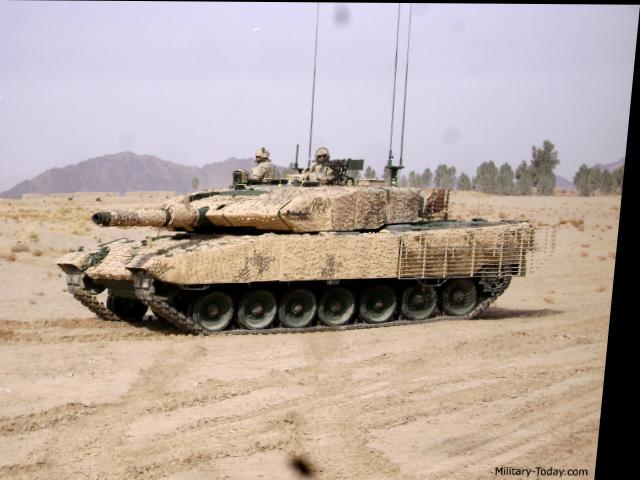other: (228, 130, 290, 193), (304, 131, 346, 195)
tank: (82, 168, 541, 326)
